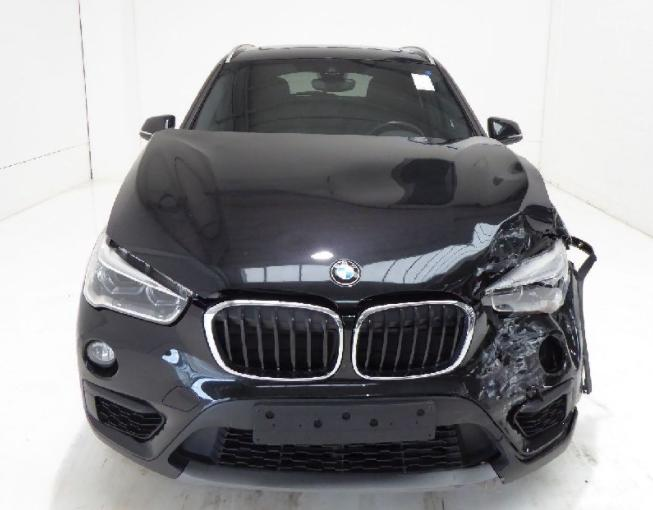Front-bumper: (76, 270, 592, 496)
Front-door: (434, 57, 487, 136), (179, 54, 227, 129)
Grille: (202, 299, 343, 381), (352, 300, 476, 381)
Headlight: (82, 228, 191, 327), (482, 235, 571, 316)
Hood: (105, 128, 553, 326)
License-plate: (252, 402, 435, 445)
Mirror: (487, 117, 523, 146), (139, 114, 176, 140)
Roof: (231, 45, 432, 64)
Windshield: (189, 61, 479, 137)
